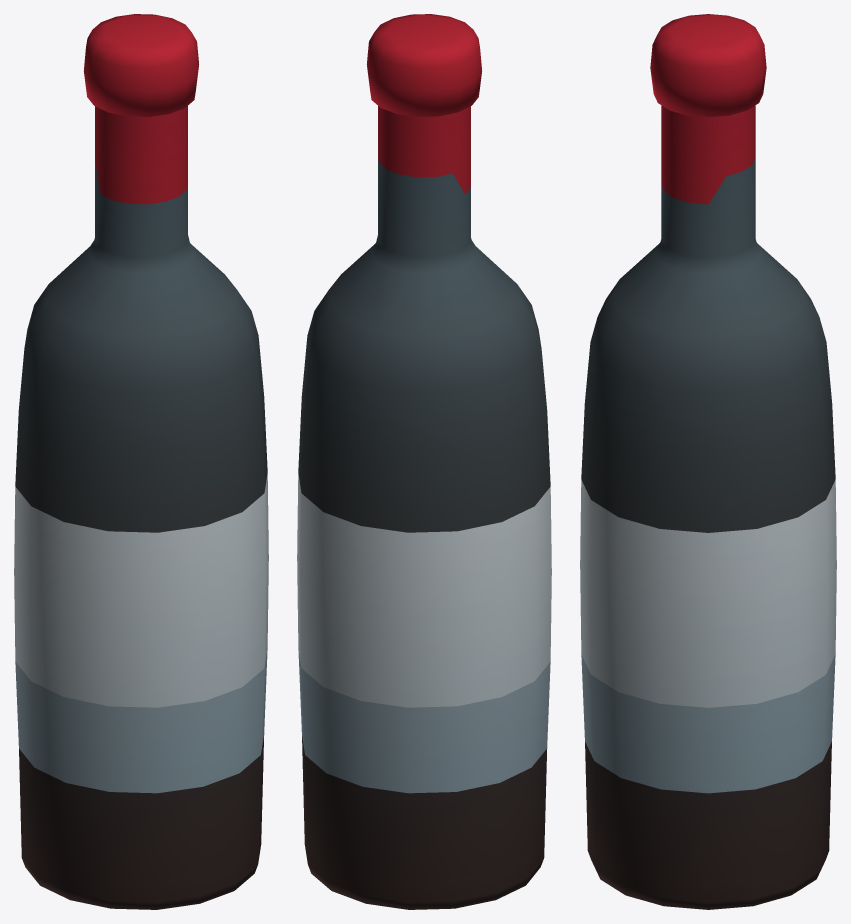
Rendered from bottle_022.fbx.
3 views of the same model, side by side, from view 1: azimuth 30°, elevation 25°; view 2: azimuth 150°, elevation 25°; view 3: azimuth 270°, elevation 25° (orthographic).
Visible parts, largest first — view 1: bottle_022; view 2: bottle_022; view 3: bottle_022.
Part boxes in pixels (x1,y1,x2,y2): bottle_022: [14, 14, 268, 909]; bottle_022: [297, 14, 551, 909]; bottle_022: [580, 14, 836, 909].
Size of the model in its own units: 8.56 by 8.56 by 30.62.
